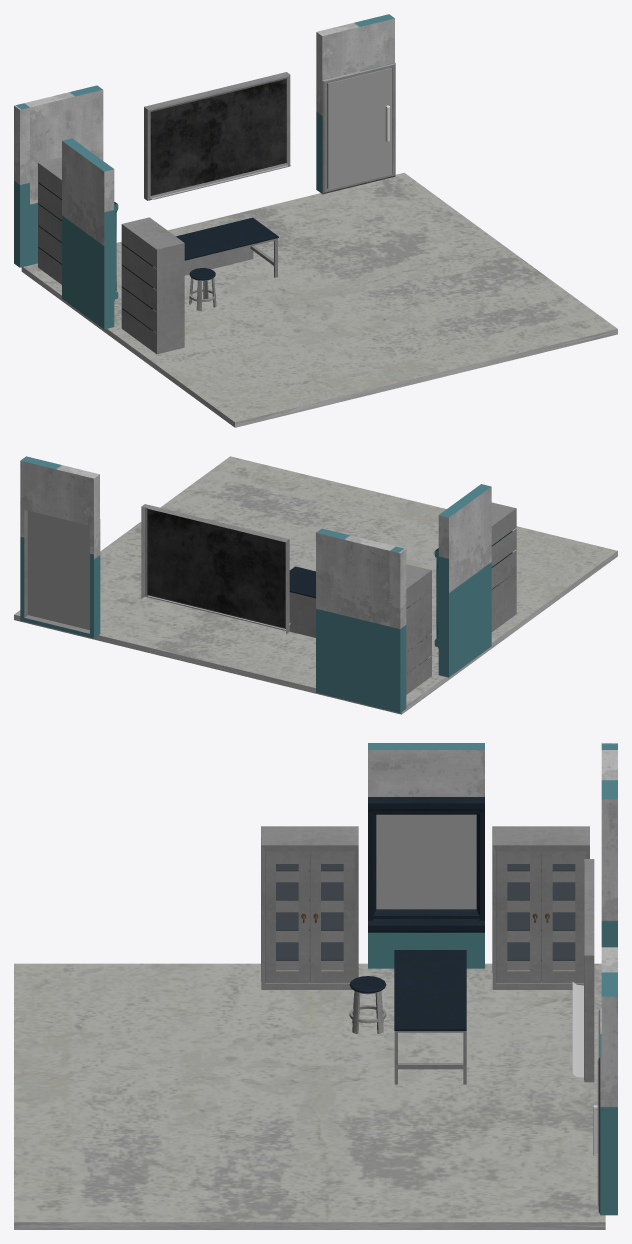
File: lab_modular.fbx
3 renders of one model, top to bottom at view 1: azimuth 30°, elevation 25°; view 2: azimuth 150°, elevation 25°; view 3: azimuth 270°, elevation 25°, orthographic. The views are drawn at different scales.
Parts seen in each view (by area): view 1: floor_ceiling, whiteboard_frame1, window_wall17, cabinet1, door, door_wall, window_wall20, table_lab1, cabinet, window_wall16, lab_seat4; view 2: floor_ceiling, whiteboard_frame1, window_wall20, window_wall17, door_wall, door, cabinet, cabinet1, window_wall16, table_lab1; view 3: floor_ceiling, window_wall17, table_lab1, cabinet1, cabinet_door, cabinet, cabinet_door2, cabinet_door3, cabinet_door1, door_wall, window_wall20, whiteboard_frame1 (+8 smaller).
Boxes of the visible parts, x1,y1,x2,y2 form: floor_ceiling: (21, 172, 617, 427); whiteboard_frame1: (144, 72, 290, 200); window_wall17: (62, 138, 118, 329); cabinet1: (121, 217, 184, 354); door: (327, 68, 391, 189); door_wall: (316, 14, 395, 194); window_wall20: (24, 85, 103, 265); table_lab1: (176, 217, 278, 277); cabinet: (38, 157, 61, 284); window_wall16: (14, 103, 29, 267); lab_seat4: (189, 268, 216, 310); floor_ceiling: (14, 456, 617, 714); whiteboard_frame1: (141, 504, 289, 634); window_wall20: (316, 528, 395, 710); window_wall17: (434, 484, 491, 677); door_wall: (20, 456, 100, 638); door: (27, 511, 89, 629); cabinet: (406, 564, 431, 694); cabinet1: (491, 502, 516, 631); window_wall16: (389, 546, 406, 712); table_lab1: (289, 566, 315, 637); floor_ceiling: (14, 963, 605, 1229); window_wall17: (368, 743, 484, 968); table_lab1: (394, 950, 466, 1084); cabinet1: (261, 826, 358, 989); cabinet_door: (496, 851, 541, 982); cabinet: (492, 826, 589, 989); cabinet_door2: (265, 851, 309, 982); cabinet_door3: (310, 851, 354, 982); cabinet_door1: (541, 851, 586, 982); door_wall: (598, 947, 617, 1215); window_wall20: (601, 750, 617, 947); whiteboard_frame1: (584, 859, 594, 1082).
Size of the model in its own units: 880 by 356 by 862.
